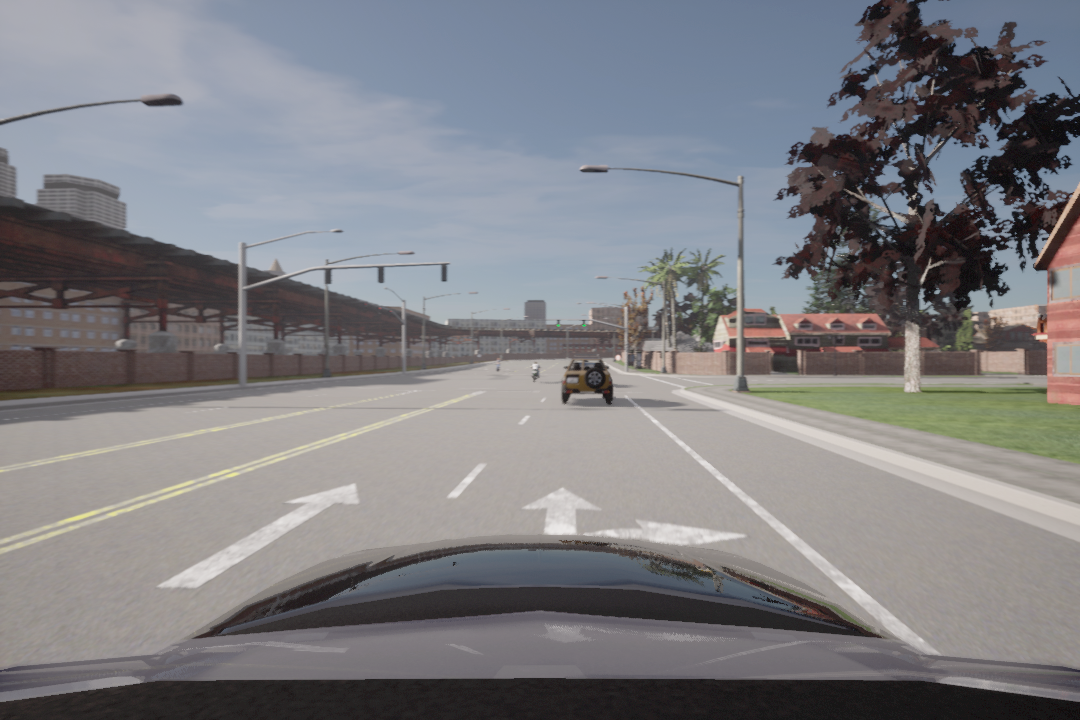RoadSign_forward: (151, 471, 371, 599)
RoadSign_forward_right: (524, 487, 755, 571)
